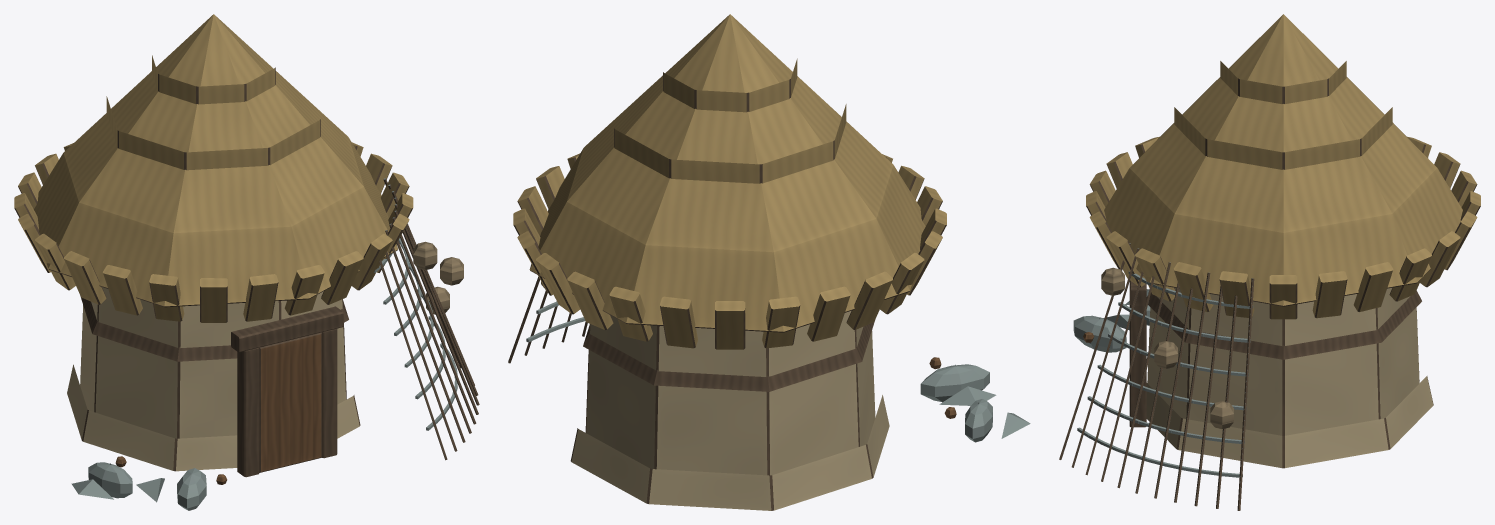
File: net-draped-cone.glb
3 renders of one model, left to right at view 1: azimuth 30°, elevation 25°; view 2: azimuth 150°, elevation 25°; view 3: azimuth 270°, elevation 25°, orthographic. The views are drawn at different scales.
Parts seen in each view (by area): view 1: net-draped-cone; view 2: net-draped-cone; view 3: net-draped-cone.
Boxes of the visible parts, x1,y1,x2,y2 form: net-draped-cone: (14,14,479,510); net-draped-cone: (508,14,1030,510); net-draped-cone: (1059,14,1480,510).
Size of the model in its own units: 0.7562 by 0.66 by 0.6455.
1 material, 1 textured.
